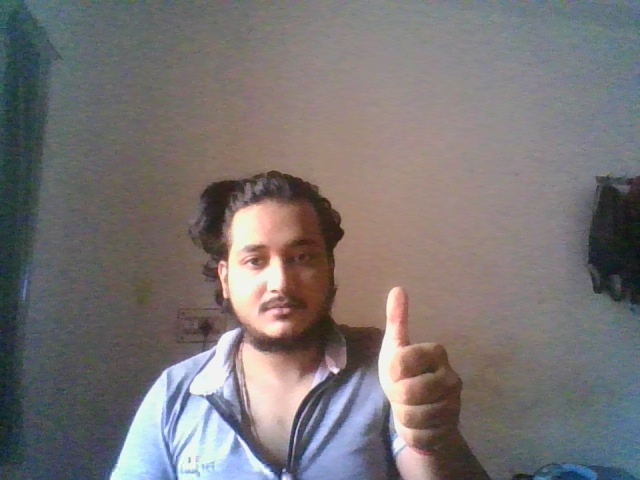ThumbsUp: (377, 285, 464, 452)
